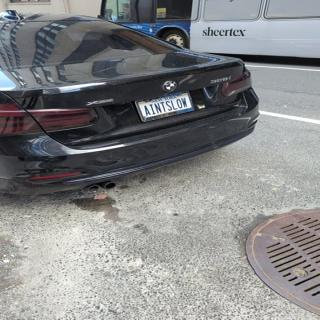license: (135, 92, 198, 124)
